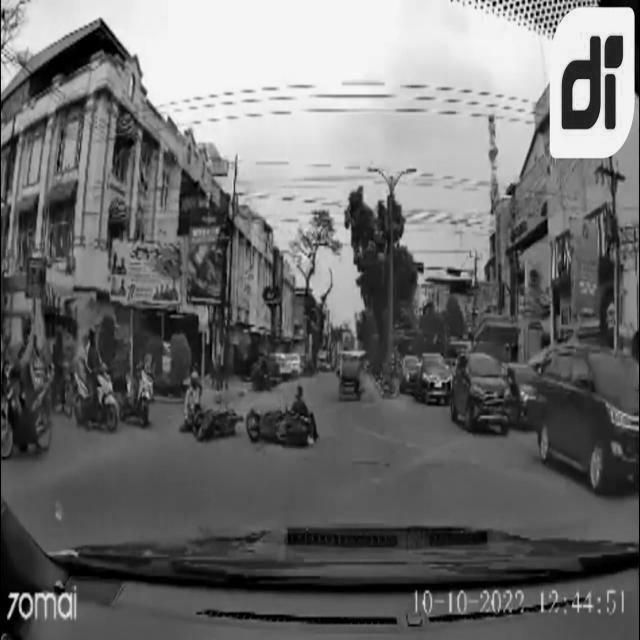accident: (182, 407, 318, 448), (246, 408, 318, 446), (181, 410, 241, 440)
non-accident: (448, 350, 640, 490), (66, 336, 158, 432)
